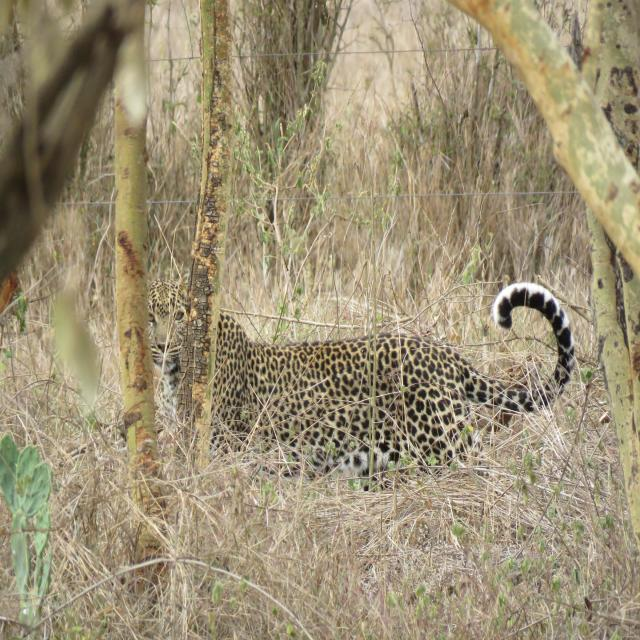Leopard: (117, 259, 585, 486)
